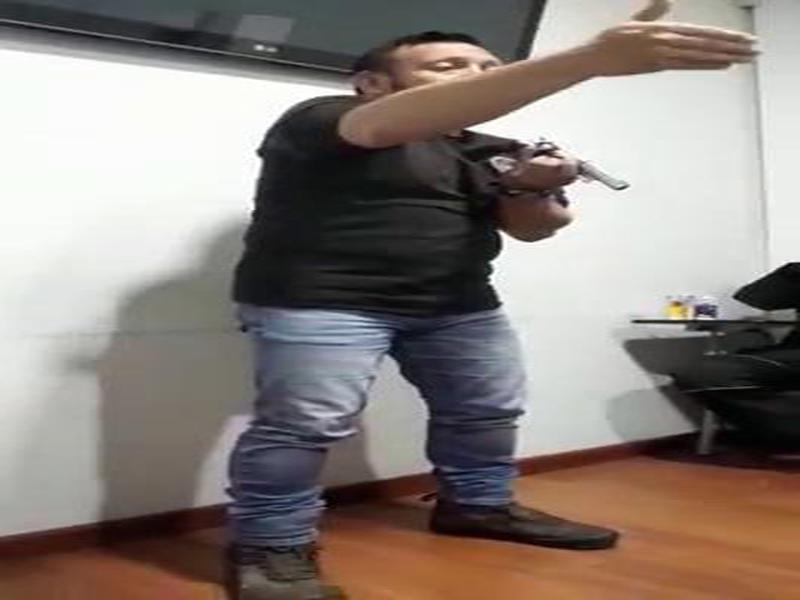Revolver: (475, 129, 637, 230)
